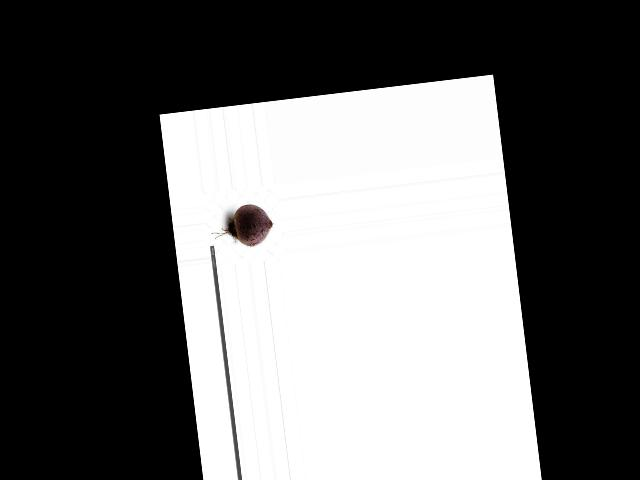beet: (207, 201, 275, 251)
